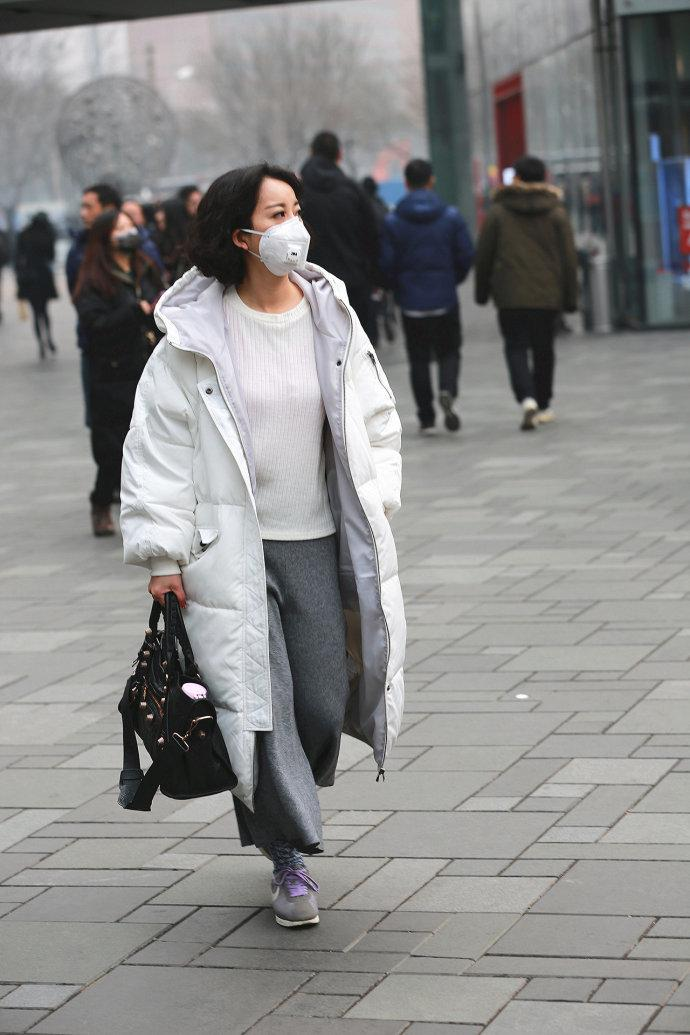NONE: (80, 199, 105, 228)
OK: (246, 196, 321, 271), (112, 220, 139, 255)
